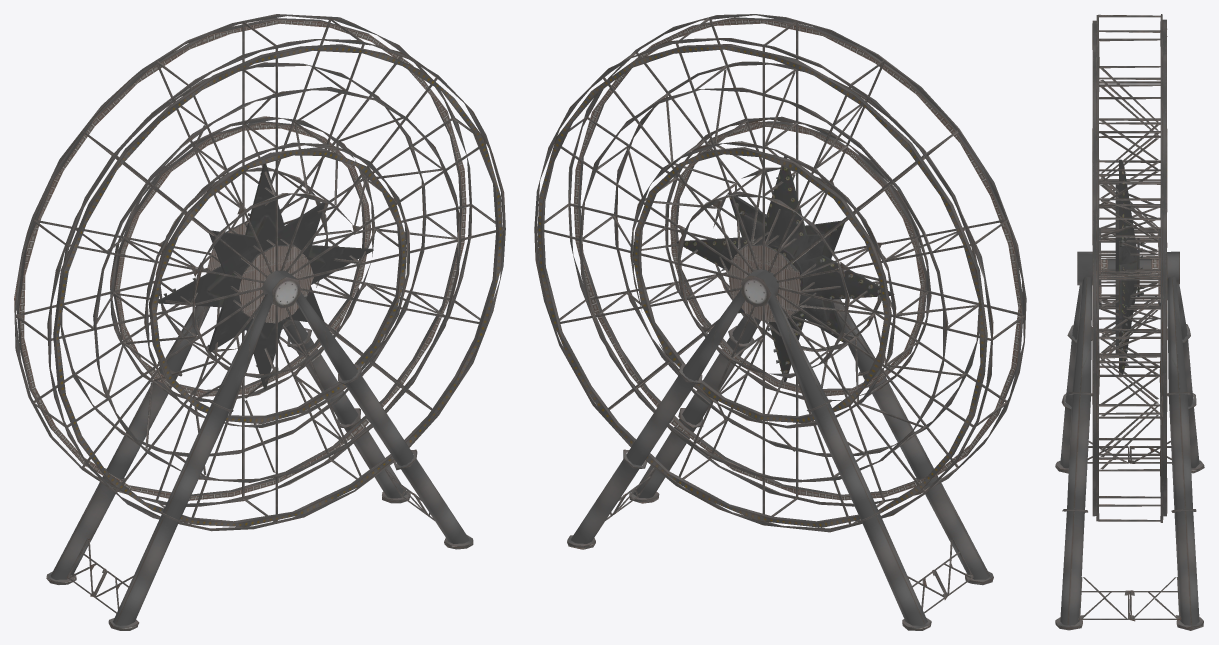
File: wheel.glb
The picture shows the model from 3 angles, left to right: view 1: azimuth 30°, elevation 25°; view 2: azimuth 150°, elevation 25°; view 3: azimuth 270°, elevation 25°; orthographic projection. The views are drawn at different scales.
Visible parts, largest first — view 1: wheel, frame, star; view 2: wheel, frame, star; view 3: wheel, frame, star.
Boxes of the visible parts, x1,y1,x2,y2 form: wheel: [14, 14, 505, 531]; frame: [46, 270, 473, 630]; star: [158, 164, 373, 389]; wheel: [534, 14, 1026, 532]; frame: [567, 269, 993, 630]; star: [676, 156, 894, 381]; wheel: [1092, 14, 1167, 522]; frame: [1055, 251, 1204, 630]; star: [1115, 159, 1145, 377].
Size of the model in its own units: 36 by 39.68 by 10.6.
2 materials, 2 textured.
